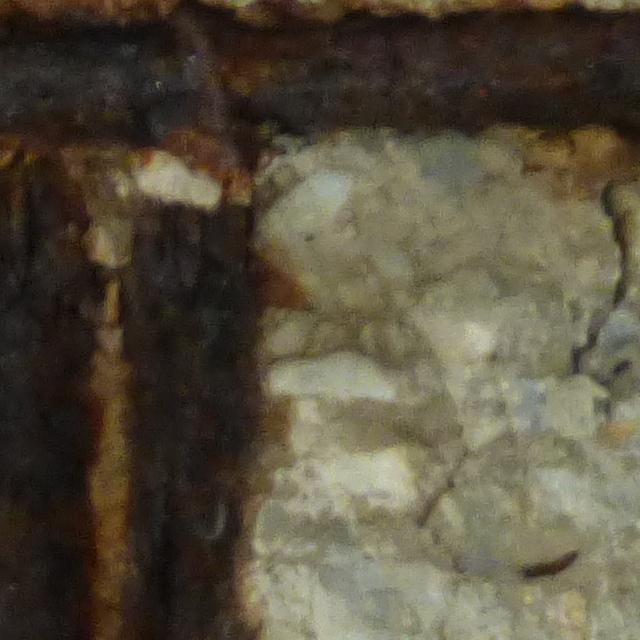Rust: (1, 1, 636, 144), (123, 197, 268, 640), (1, 148, 112, 640)
